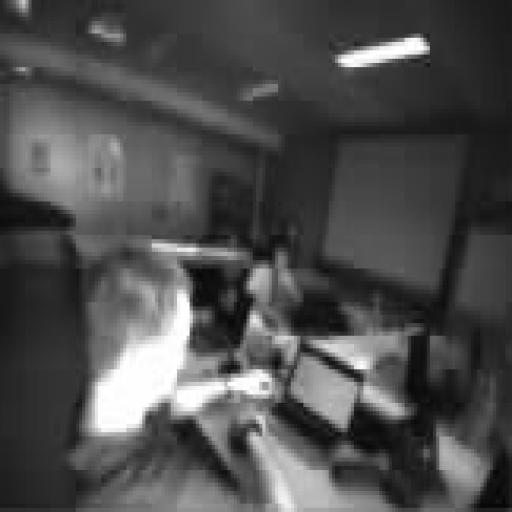human: (70, 248, 271, 507), (247, 236, 303, 327)
